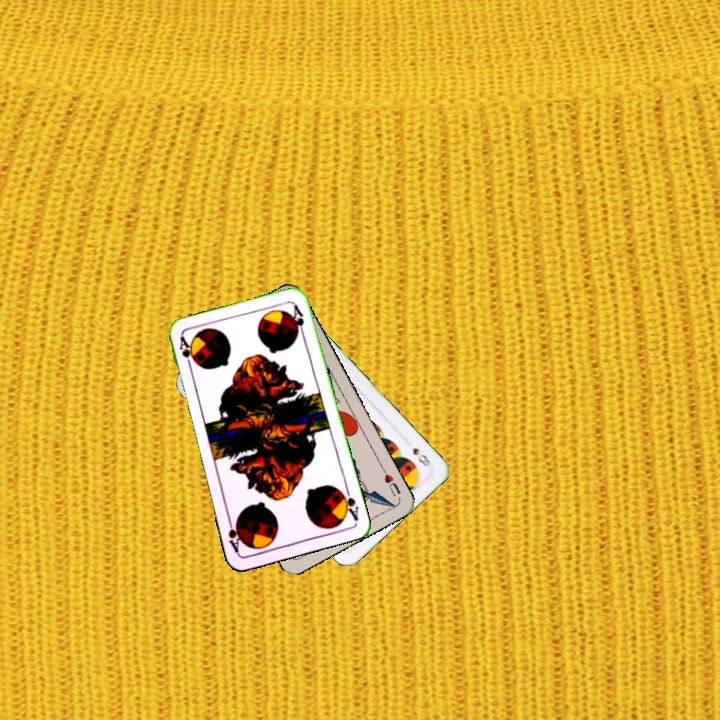HU: (378, 463, 403, 499)
S8: (408, 443, 433, 469)
SA: (336, 483, 361, 523), (175, 333, 195, 373)
